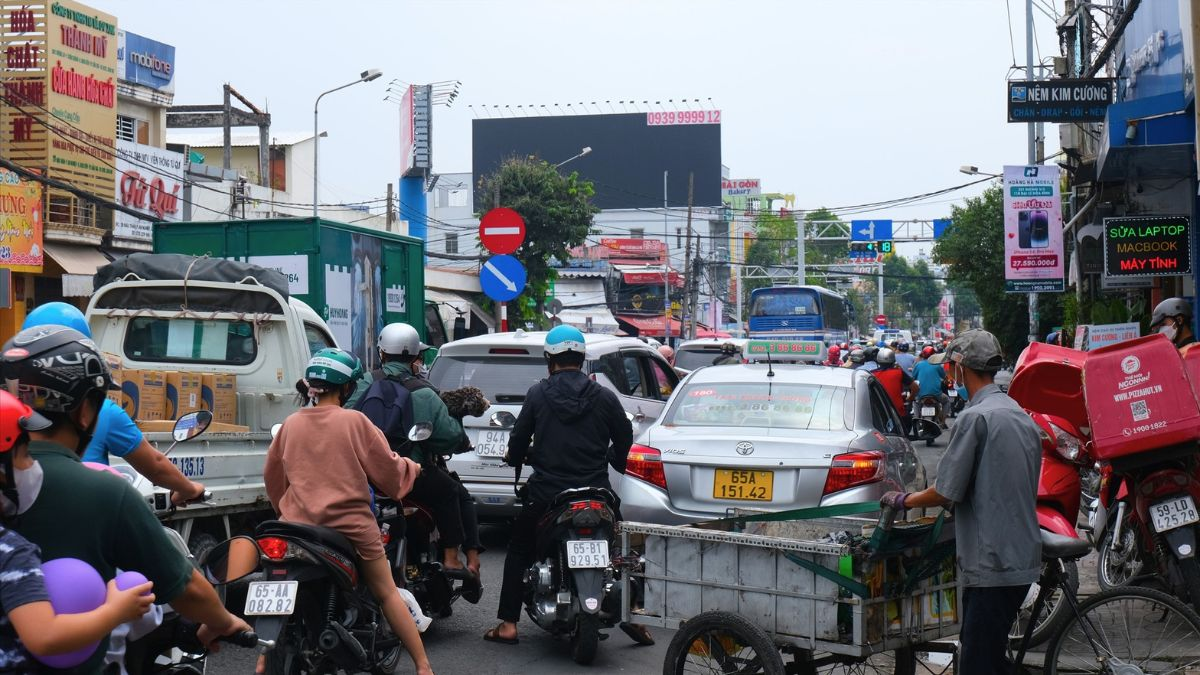Bien-so: (714, 468, 775, 503), (239, 580, 296, 615), (1149, 498, 1199, 533), (566, 540, 611, 574), (476, 429, 509, 458), (921, 405, 937, 418)
